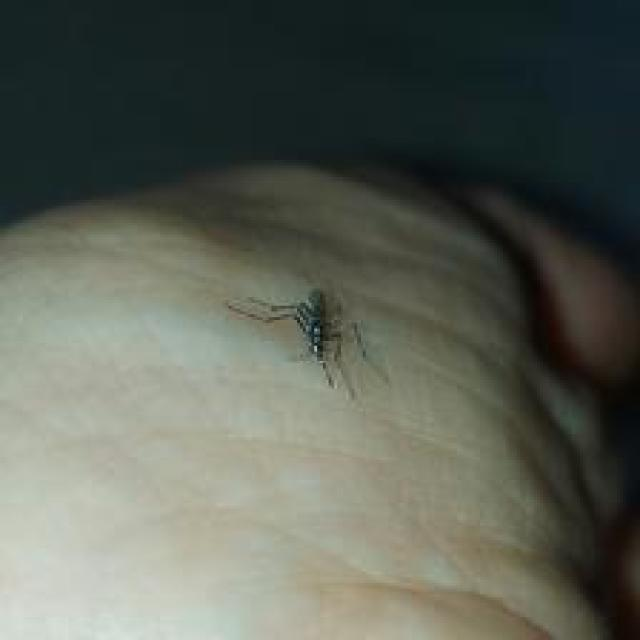Aedes albopictus: (226, 286, 391, 400)
